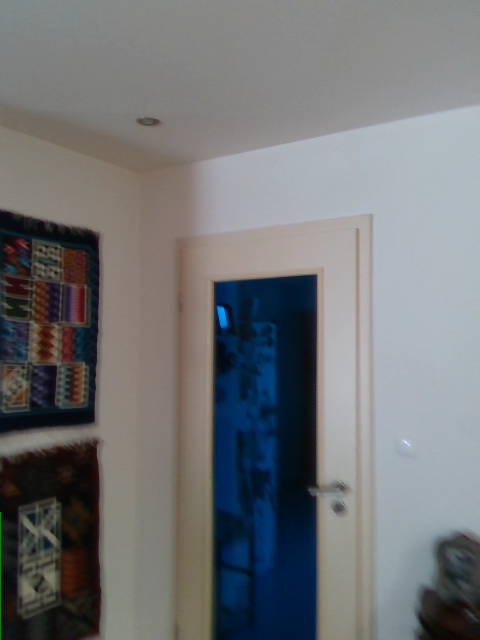closed: (175, 215, 375, 639)
